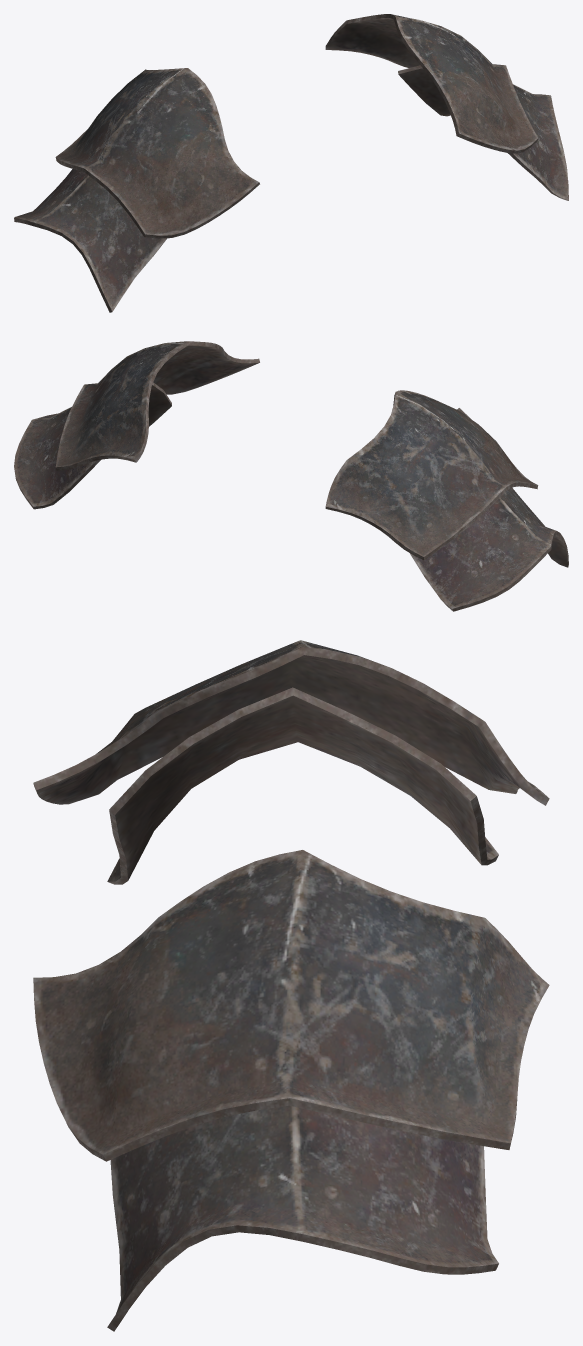
File: sk_dg_uruk_pauldron_heavy_a.fbx
The picture shows the model from 3 angles, top to bottom: view 1: azimuth 30°, elevation 25°; view 2: azimuth 150°, elevation 25°; view 3: azimuth 270°, elevation 25°; orthographic projection. The views are drawn at different scales.
Parts seen in each view (by area): view 1: sk_dg_uruk_pauldron_heavy_a; view 2: sk_dg_uruk_pauldron_heavy_a; view 3: sk_dg_uruk_pauldron_heavy_a.
Part boxes in pixels (x1=…): sk_dg_uruk_pauldron_heavy_a: x1=14, y1=14, x2=568, y2=312; sk_dg_uruk_pauldron_heavy_a: x1=14, y1=341, x2=568, y2=611; sk_dg_uruk_pauldron_heavy_a: x1=33, y1=640, x2=549, y2=1331.
Bounding box in the file's own units: 0.7219 × 0.3109 × 0.239.
1 material, 1 textured.
